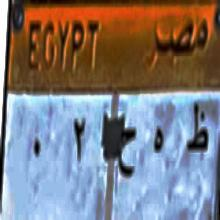0: (23, 127, 50, 176)
2: (64, 112, 94, 174)
7aa: (116, 120, 139, 187)
Thaa: (184, 96, 212, 168)
haa: (147, 116, 171, 173)
